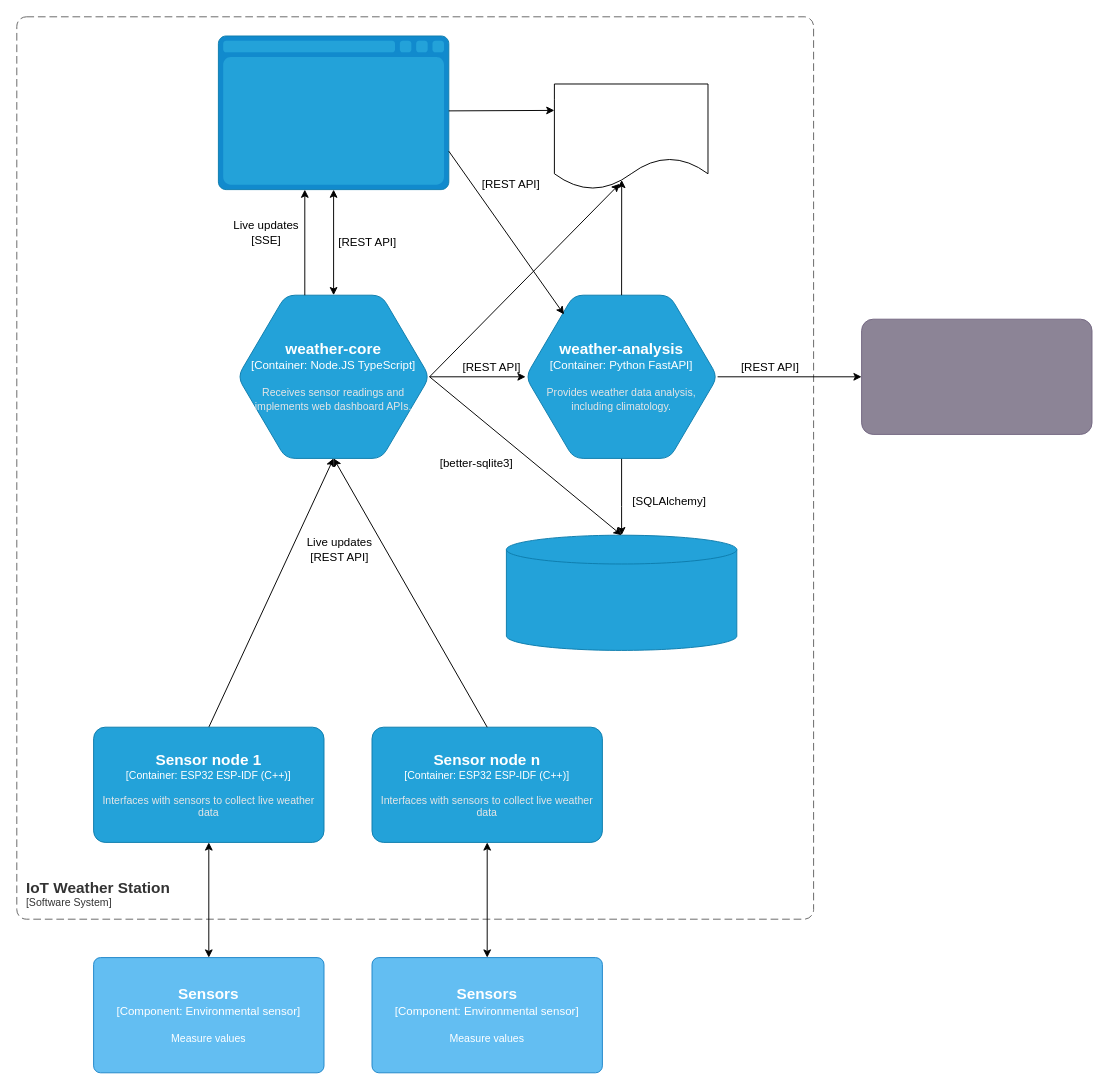
This 1109x1090 diagram has some shape labels left out. Here are the shapes that lost their labels. From the top down, the box of each, then its label:
(217, 35, 449, 190): web-portal [Container: React.JS] Web UI
(553, 83, 708, 190): Configuration file (JSON)
(861, 318, 1092, 434): OpenAI Models [External] AI summaries of weather data and assistance.
(505, 534, 737, 650): Database [Container: Sqlite] Stores weather data and climatology.
